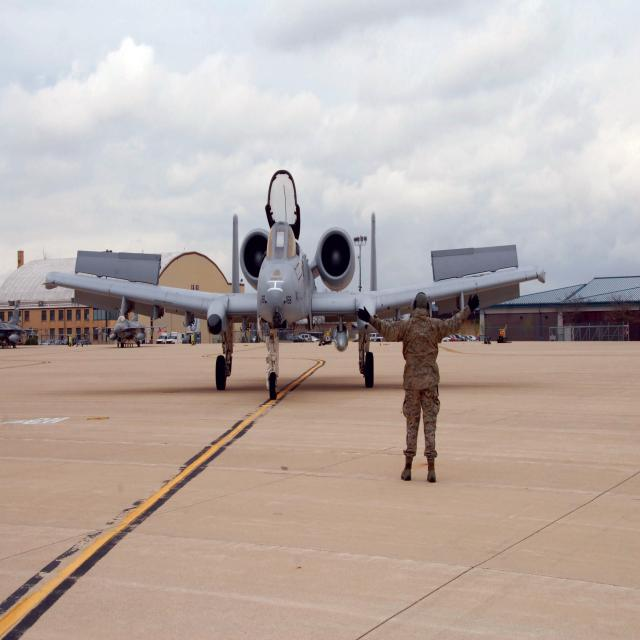A10: (39, 87, 553, 415)
